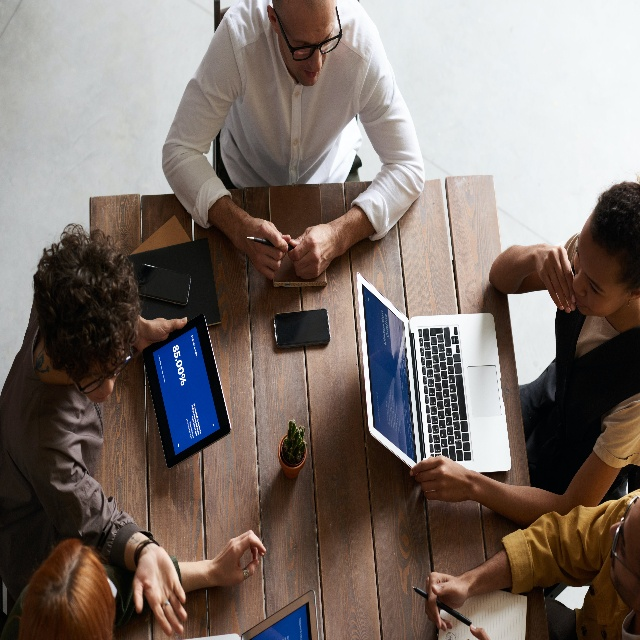Gafas: (277, 0, 343, 62), (74, 343, 133, 396), (610, 495, 640, 580)
Sin_guantes: (132, 544, 187, 635), (211, 529, 267, 588), (243, 216, 291, 281), (409, 455, 470, 503), (535, 244, 576, 314), (288, 223, 335, 281), (425, 572, 467, 632), (138, 316, 187, 354), (469, 624, 490, 640)
